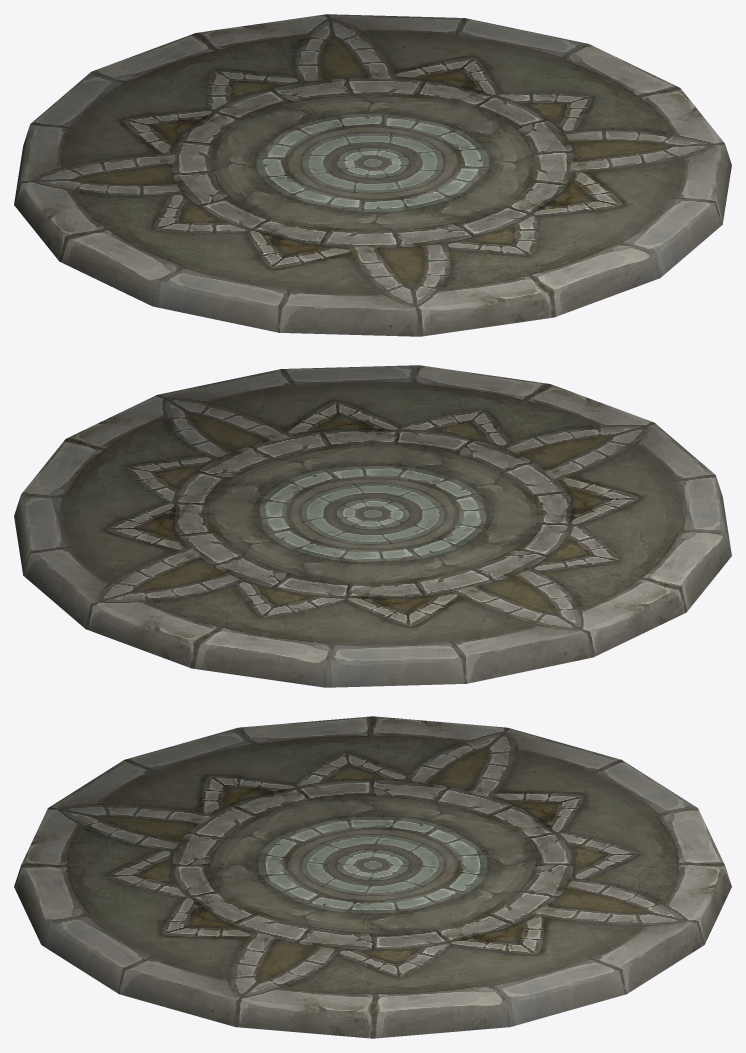
The model's file is CZ_Pingtai.FBX.
The picture shows the model from 3 angles, top to bottom: view 1: azimuth 30°, elevation 25°; view 2: azimuth 150°, elevation 25°; view 3: azimuth 270°, elevation 25°; orthographic projection.
Parts seen in each view (by area): view 1: CZ_Pingtai; view 2: CZ_Pingtai; view 3: CZ_Pingtai.
Part boxes in pixels (box(x1,y1,x2,y2)): CZ_Pingtai: box(14, 14, 731, 336); CZ_Pingtai: box(14, 365, 731, 687); CZ_Pingtai: box(14, 716, 731, 1038).
Bounding box in the file's own units: 142 × 4.79 × 142.
